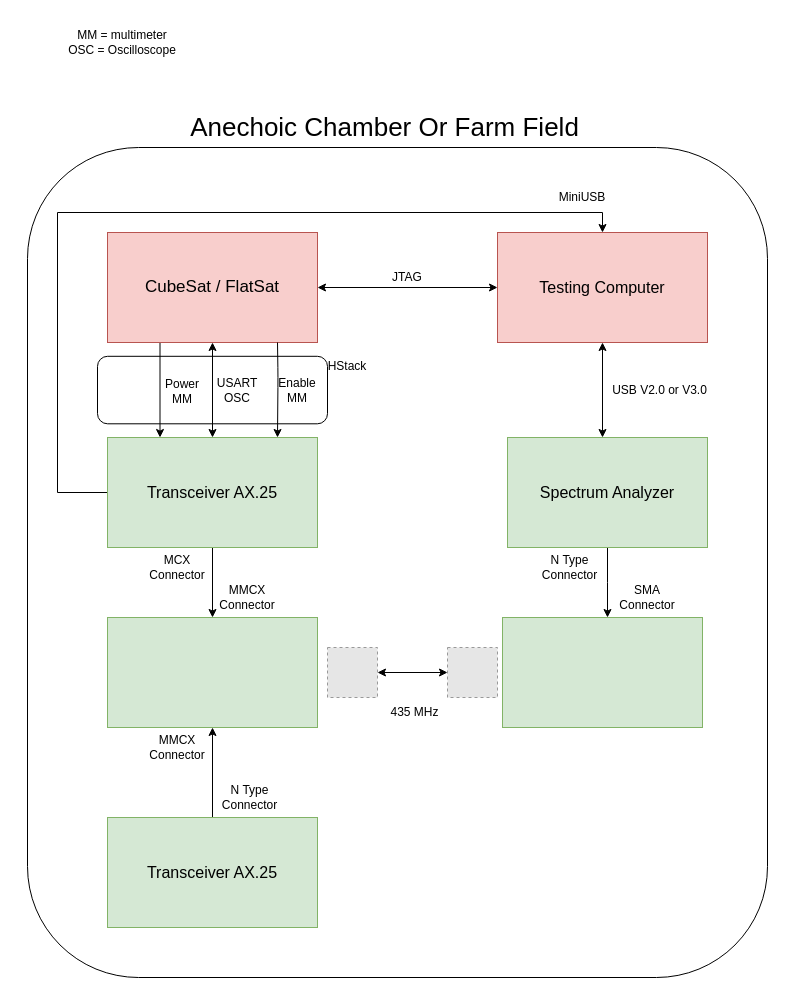
The diagram is 785 pixels wide and 995 high, and some of its shapes have lost their labels. Grey dashed boxes stand in for pictures. Here are the shapes that lost their labels. From the top down, the centre of each, then its label:
At pixel 212 672: "GOMSPACE Antenna".
At pixel 602 672: "Groundstation Antenna Or Probe Antenna".
